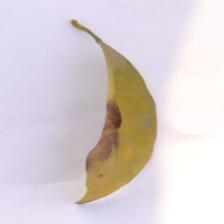black spot: (66, 92, 130, 165)
